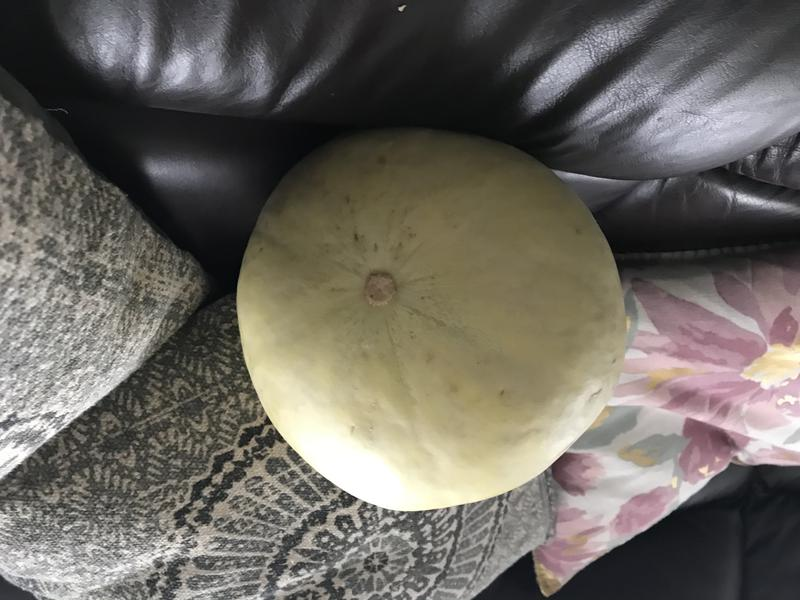honeydew: (224, 119, 634, 515)
